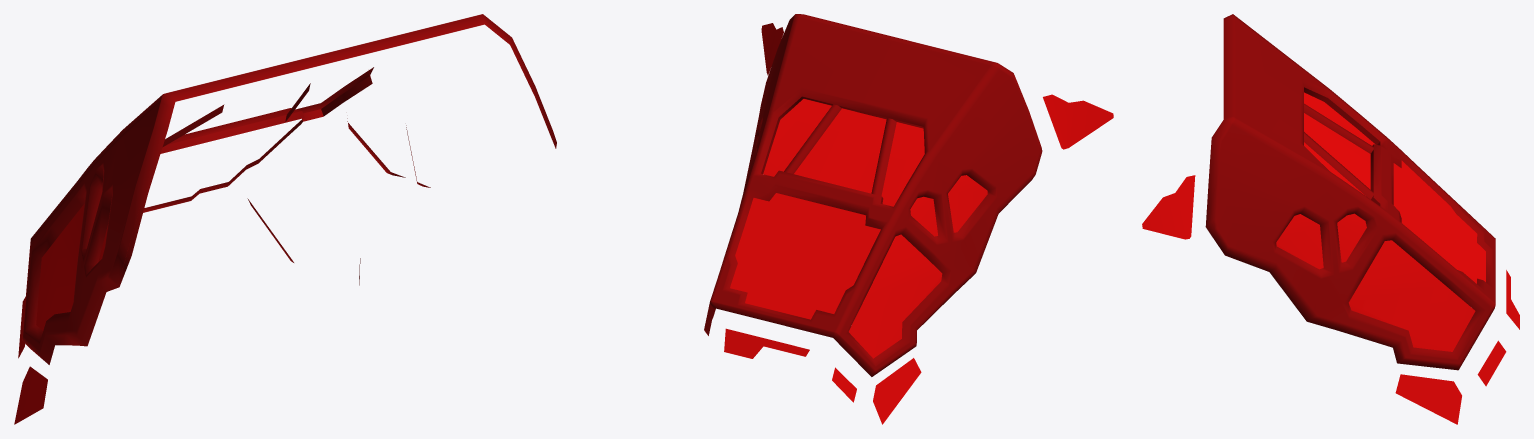
The model's file is CPLT_TP_Cockpit_DM0_STM.gltf.
The picture shows the model from 3 angles, left to right: view 1: azimuth 30°, elevation 25°; view 2: azimuth 150°, elevation 25°; view 3: azimuth 270°, elevation 25°; orthographic projection. The views are drawn at different scales.
Visible parts, largest first — view 1: CPLT_TP_Cockpit_DM0_STM; view 2: CPLT_TP_Cockpit_DM0_STM; view 3: CPLT_TP_Cockpit_DM0_STM.
Part boxes in pixels (x1,y1,x2,y2): CPLT_TP_Cockpit_DM0_STM: [14, 14, 556, 424]; CPLT_TP_Cockpit_DM0_STM: [704, 14, 1113, 424]; CPLT_TP_Cockpit_DM0_STM: [1142, 14, 1519, 424].
Bounding box in the file's own units: 2.29 × 1.79 × 1.97.
